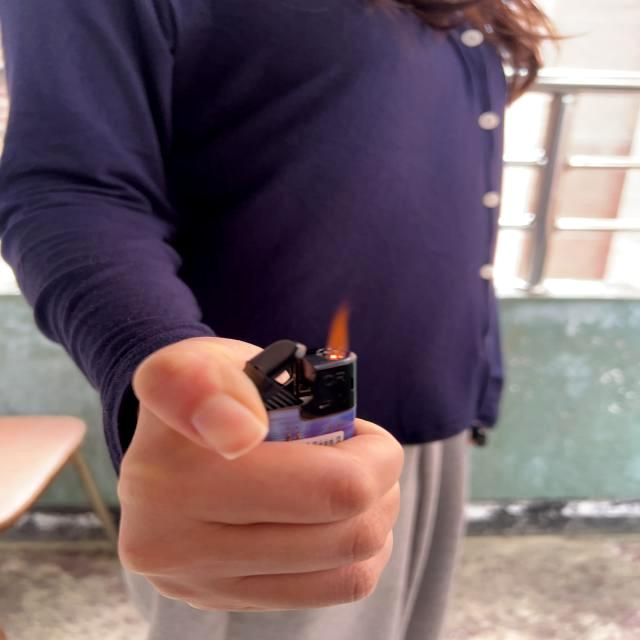fire: (324, 300, 352, 360)
